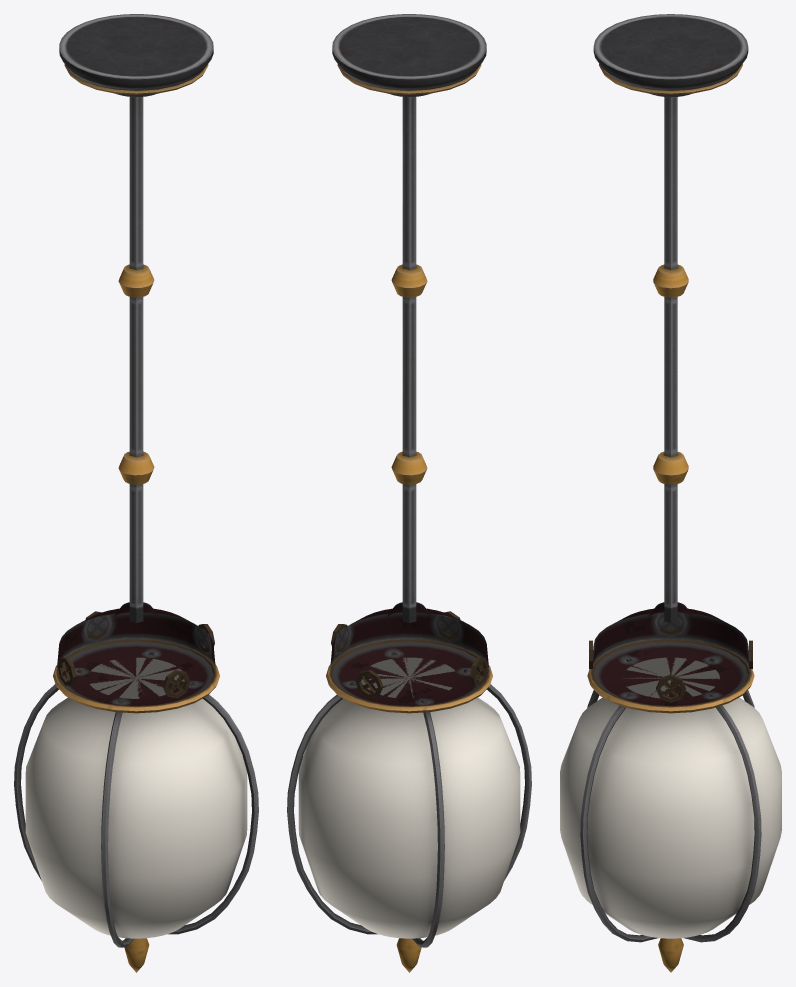
The model's file is ClassroomPendant.fbx.
3 views of the same model, side by side, from view 1: azimuth 30°, elevation 25°; view 2: azimuth 150°, elevation 25°; view 3: azimuth 270°, elevation 25° (orthographic).
Visible parts, largest first — view 1: ClassroomPendant_Glow, ClassroomPendant_Main; view 2: ClassroomPendant_Glow, ClassroomPendant_Main; view 3: ClassroomPendant_Glow, ClassroomPendant_Main.
Part boxes in pixels (x1,y1,x2,y2): ClassroomPendant_Glow: (25,657,247,938); ClassroomPendant_Main: (14,14,258,972); ClassroomPendant_Glow: (298,657,520,938); ClassroomPendant_Main: (287,14,531,972); ClassroomPendant_Glow: (560,657,781,938); ClassroomPendant_Main: (580,14,761,972).
Size of the model in its own units: 86 by 396 by 86.
